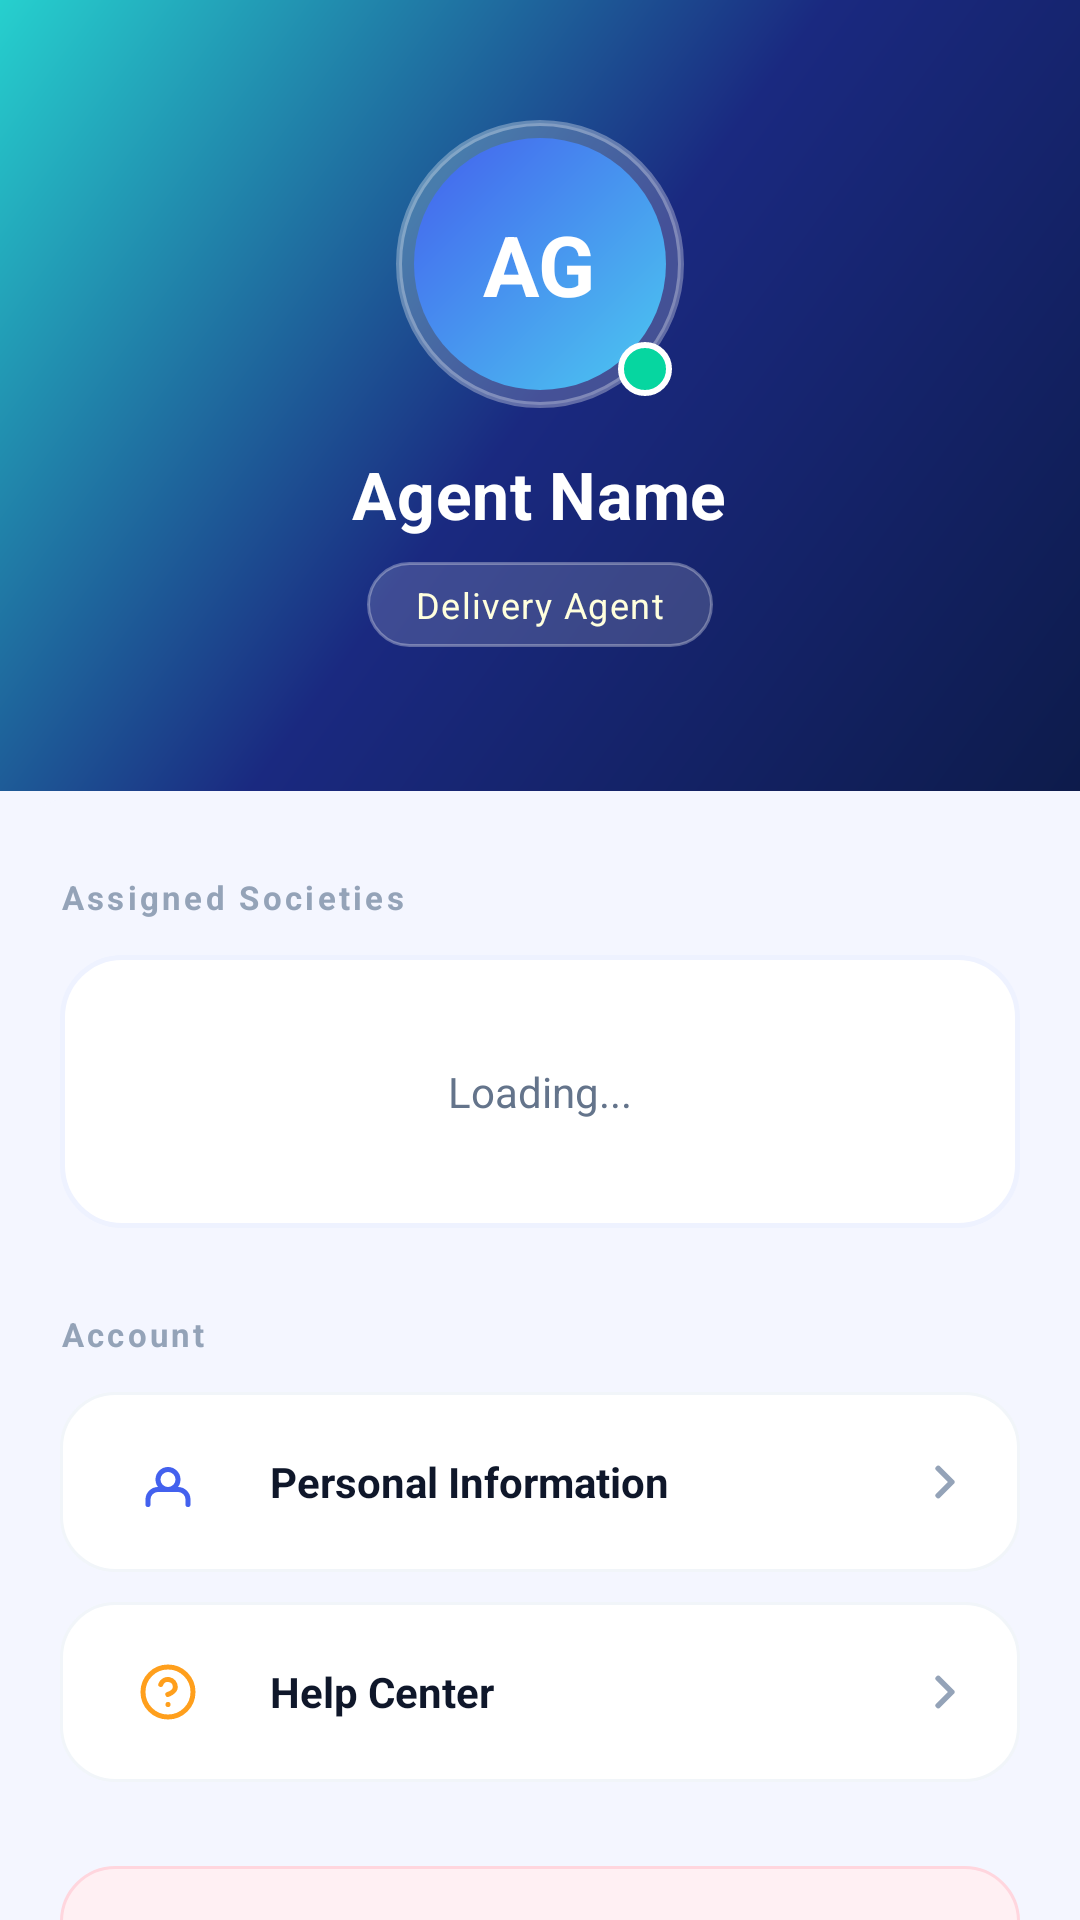

Point at icon controls on the screen. Image size 1080 × 1920, points as (x,y).
chevron right: (945,1482), (945,1692)
user: (168,1487)
